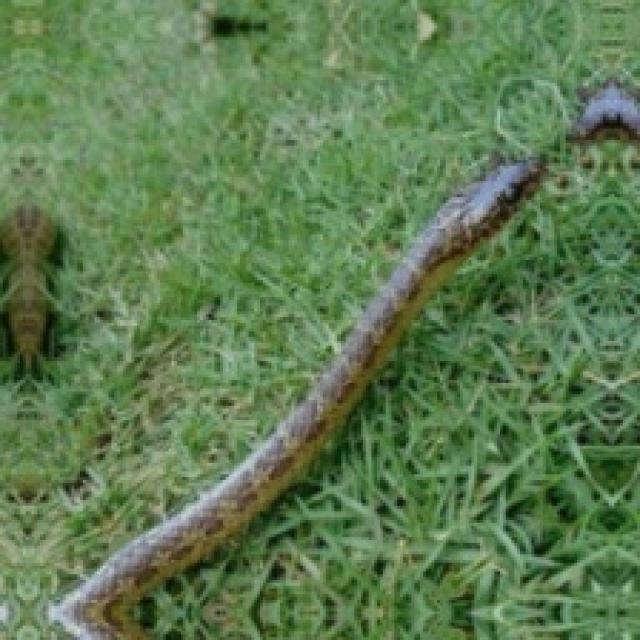mullers wolf snake: (49, 157, 543, 637), (0, 206, 60, 369)
